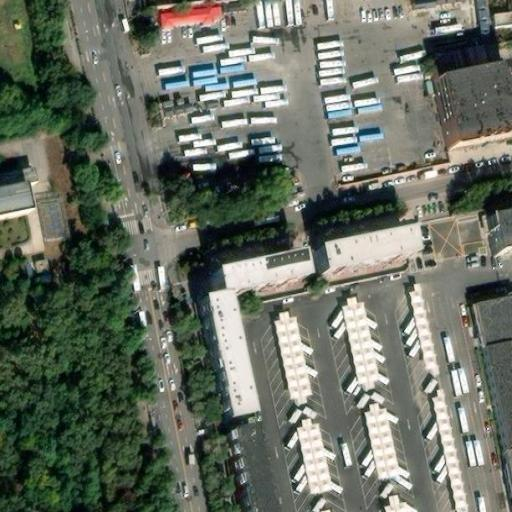building: (198, 315, 251, 444), (435, 71, 512, 157), (316, 235, 412, 283), (210, 258, 304, 305), (480, 350, 512, 459), (224, 438, 266, 512), (469, 294, 512, 356), (429, 46, 485, 85), (483, 208, 512, 255), (490, 5, 512, 27), (0, 175, 20, 194)
